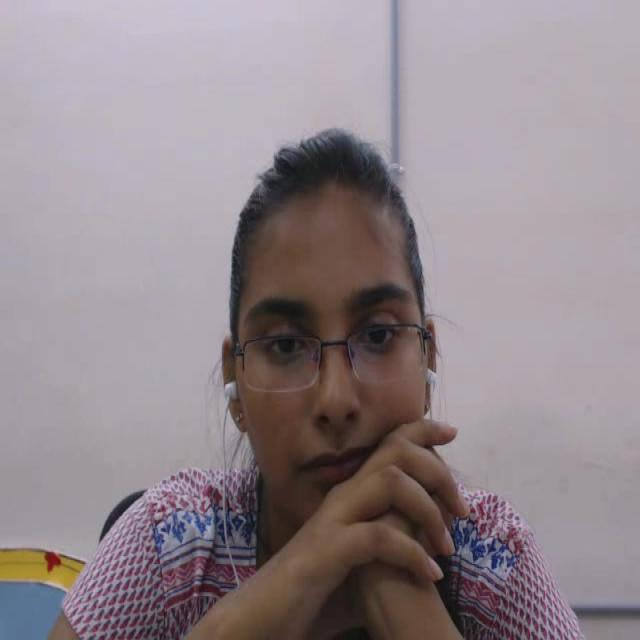Bored: (198, 123, 466, 560)
